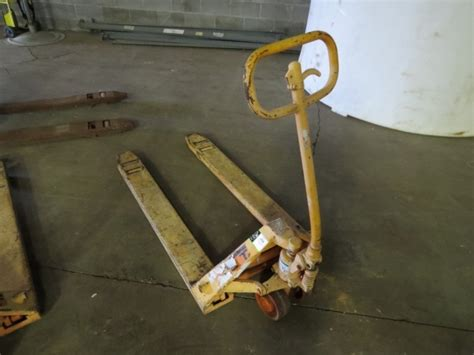Pallet Jack: (117, 29, 340, 323)
